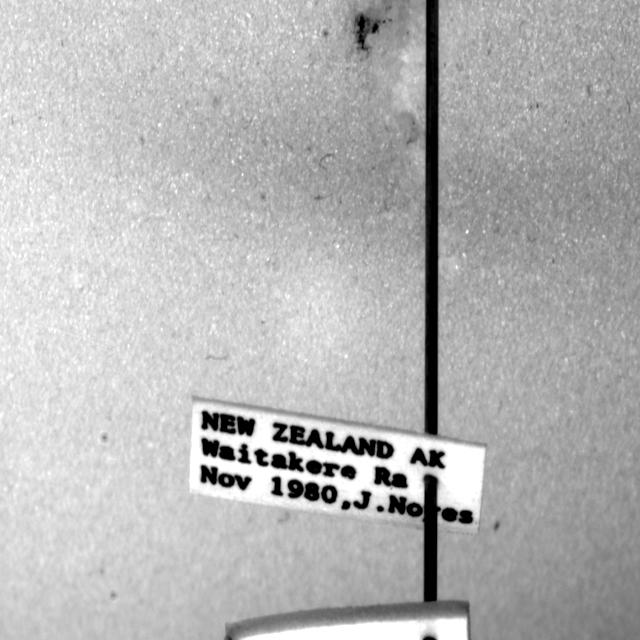typed_label: (190, 398, 486, 532)
